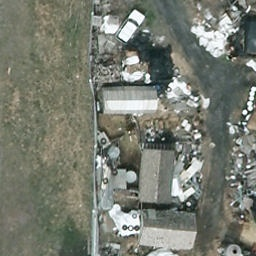car: (113, 9, 145, 47)
